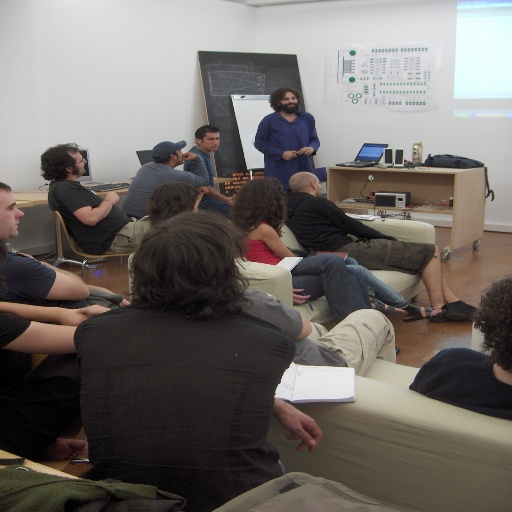hand: (268, 393, 324, 452), (290, 285, 312, 306), (75, 304, 113, 316), (103, 189, 121, 205), (297, 144, 316, 157), (281, 151, 300, 163), (179, 152, 200, 161)
